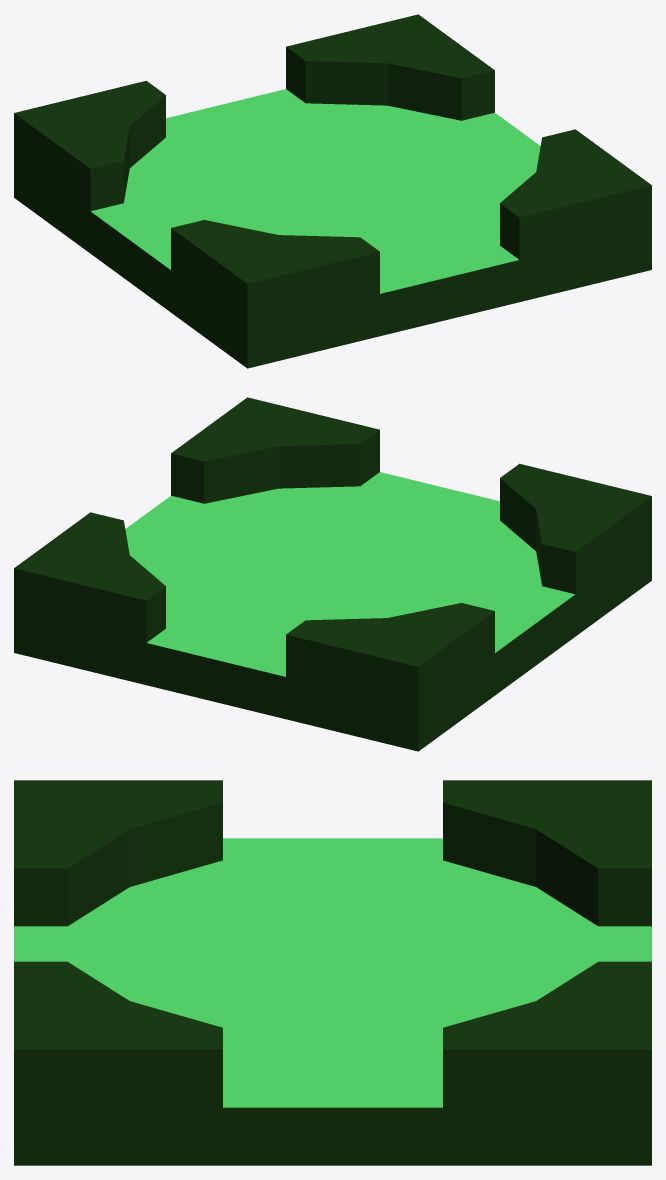
The model's file is MG Intersection Rounded.fbx.
The picture shows the model from 3 angles, top to bottom: view 1: azimuth 30°, elevation 25°; view 2: azimuth 150°, elevation 25°; view 3: azimuth 270°, elevation 25°; orthographic projection. The views are drawn at different scales.
Parts seen in each view (by area): view 1: MG Intersection Rounded; view 2: MG Intersection Rounded; view 3: MG Intersection Rounded.
Boxes of the visible parts, x1=… form: MG Intersection Rounded: x1=14, y1=14, x2=651, y2=368; MG Intersection Rounded: x1=14, y1=397, x2=651, y2=751; MG Intersection Rounded: x1=14, y1=780, x2=651, y2=1165.
Bounding box in the file's own units: 200 × 40 × 200.
